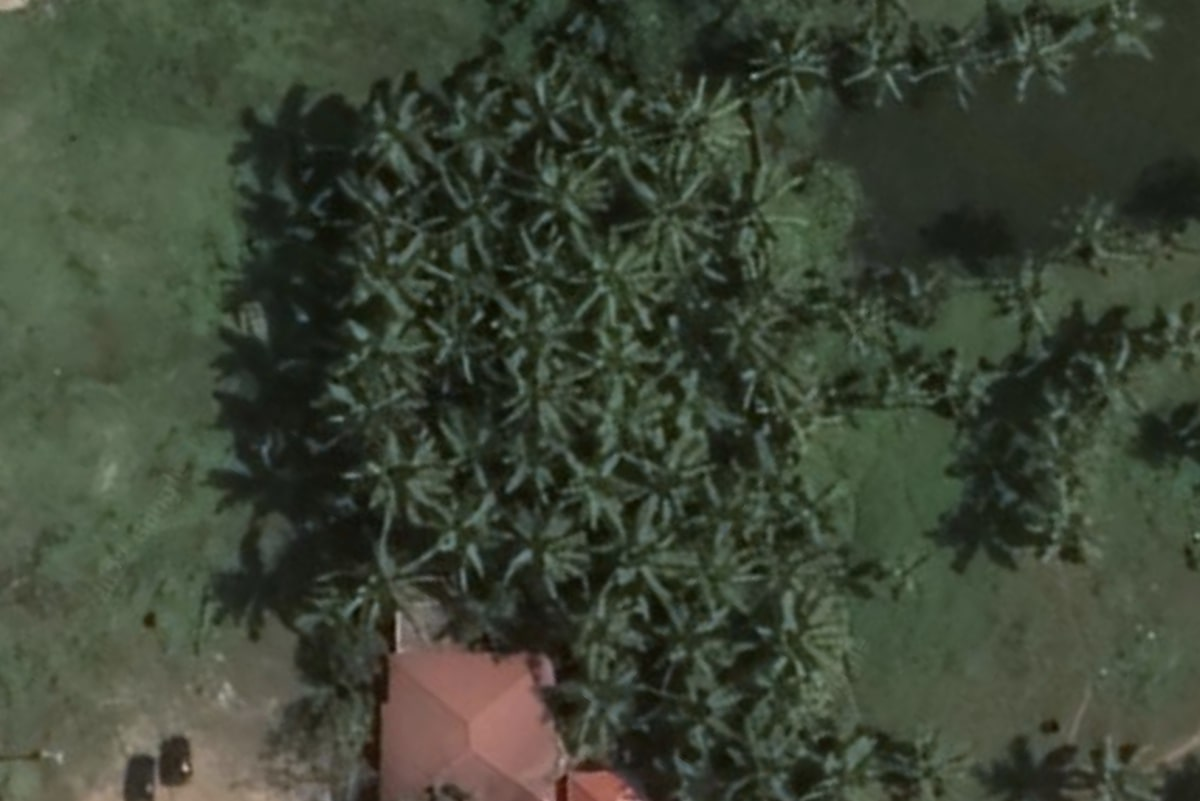coconut: (749, 595, 852, 699), (1025, 478, 1115, 576), (625, 168, 714, 264), (501, 232, 584, 334), (366, 431, 448, 527), (646, 78, 743, 159), (576, 233, 653, 333), (504, 348, 594, 432), (553, 640, 629, 739), (518, 148, 608, 231), (659, 598, 737, 693), (344, 224, 434, 306), (315, 359, 411, 435), (439, 93, 523, 177), (579, 324, 656, 414), (563, 452, 639, 542), (434, 179, 506, 271), (726, 166, 800, 254), (978, 244, 1053, 330), (748, 37, 827, 118), (608, 522, 687, 603), (784, 727, 871, 799), (743, 370, 825, 446), (690, 532, 767, 612), (637, 440, 706, 528), (1061, 207, 1144, 279), (512, 512, 584, 593), (1066, 736, 1155, 801), (356, 548, 418, 636), (712, 286, 789, 356), (357, 103, 436, 171), (1076, 340, 1146, 416), (991, 29, 1070, 95), (514, 73, 578, 148), (779, 472, 848, 541), (355, 319, 434, 379), (850, 33, 911, 109), (338, 183, 432, 230), (881, 253, 944, 321), (1082, 0, 1151, 60), (433, 407, 492, 477), (502, 430, 563, 497), (425, 519, 485, 587), (1029, 382, 1092, 445), (901, 734, 963, 798), (430, 310, 489, 377), (887, 364, 946, 423), (832, 310, 890, 362), (932, 40, 981, 101), (887, 546, 936, 607)
